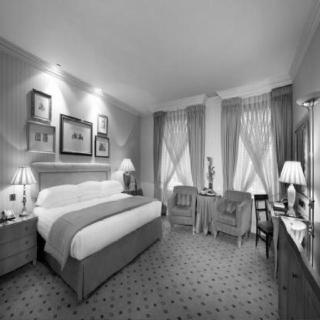other: (46, 64, 110, 104), (200, 182, 218, 200)
